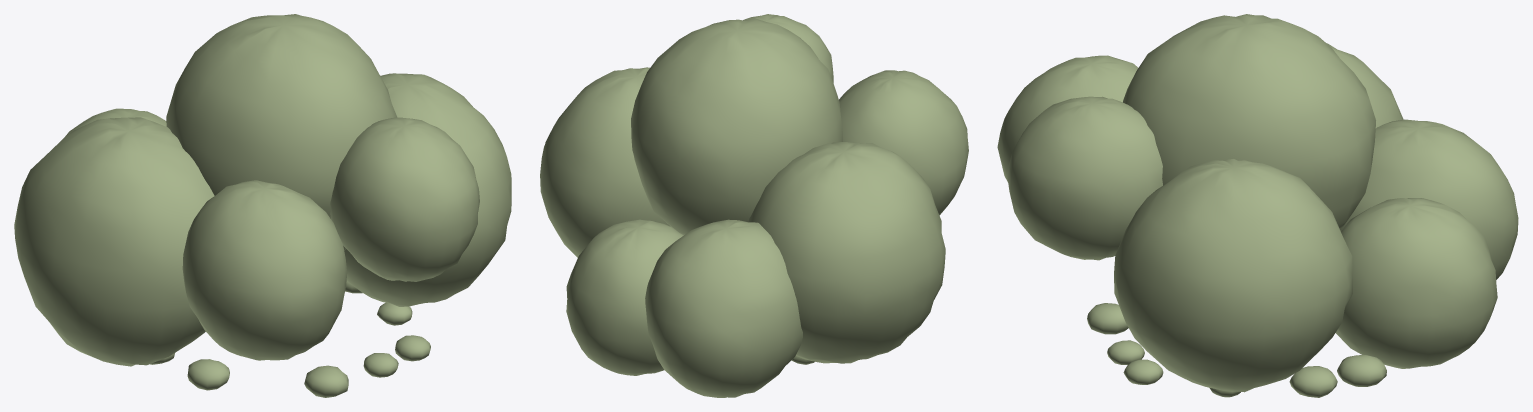
Rendered from 14-bush.glb.
3 views of the same model, side by side, from view 1: azimuth 30°, elevation 25°; view 2: azimuth 150°, elevation 25°; view 3: azimuth 270°, elevation 25° (orthographic). The views are drawn at different scales.
Parts seen in each view (by area): view 1: Puff1, Puff0, Puff5, Puff6, Puff2, Tuft7, Tuft4, Tuft10, Puff3, Tuft2, Tuft5; view 2: Puff0, Puff1, Puff3, Puff2, Puff4, Puff5, Puff6; view 3: Puff2, Puff0, Puff4, Puff6, Puff3, Puff5, Puff1, Tuft8, Tuft0, Tuft7, Tuft10, Tuft2.
Part boxes in pixels (left/top/right/bottom): Puff1: left=14, top=117, right=214, bottom=366; Puff0: left=166, top=14, right=397, bottom=250; Puff5: left=182, top=180, right=347, bottom=360; Puff6: left=330, top=117, right=479, bottom=281; Puff2: left=344, top=73, right=511, bottom=306; Tuft7: left=304, top=365, right=348, bottom=397; Tuft4: left=187, top=359, right=229, bottom=390; Tuft10: left=395, top=335, right=430, bottom=361; Puff3: left=64, top=108, right=166, bottom=137; Tuft2: left=363, top=353, right=398, bottom=377; Tuft5: left=377, top=302, right=412, bottom=325; Puff0: left=631, top=18, right=842, bottom=234; Puff1: left=748, top=142, right=945, bottom=363; Puff3: left=645, top=219, right=802, bottom=397; Puff2: left=540, top=67, right=670, bottom=257; Puff4: left=566, top=219, right=683, bottom=375; Puff5: left=839, top=70, right=968, bottom=215; Puff6: left=743, top=14, right=833, bottom=82; Puff2: left=1114, top=159, right=1352, bottom=392; Puff0: left=1123, top=14, right=1375, bottom=228; Puff4: left=1335, top=198, right=1497, bottom=368; Puff6: left=1007, top=96, right=1162, bottom=260; Puff3: left=1340, top=119, right=1518, bottom=279; Puff5: left=997, top=55, right=1137, bottom=182; Puff1: left=1326, top=43, right=1403, bottom=128; Tuft8: left=1337, top=355, right=1386, bottom=386; Tuft0: left=1289, top=366, right=1337, bottom=397; Tuft7: left=1087, top=303, right=1128, bottom=334; Tuft10: left=1123, top=359, right=1163, bottom=384; Tuft2: left=1107, top=340, right=1144, bottom=364.
Bounding box in the file's own units: 1.44 × 1 × 1.46.
